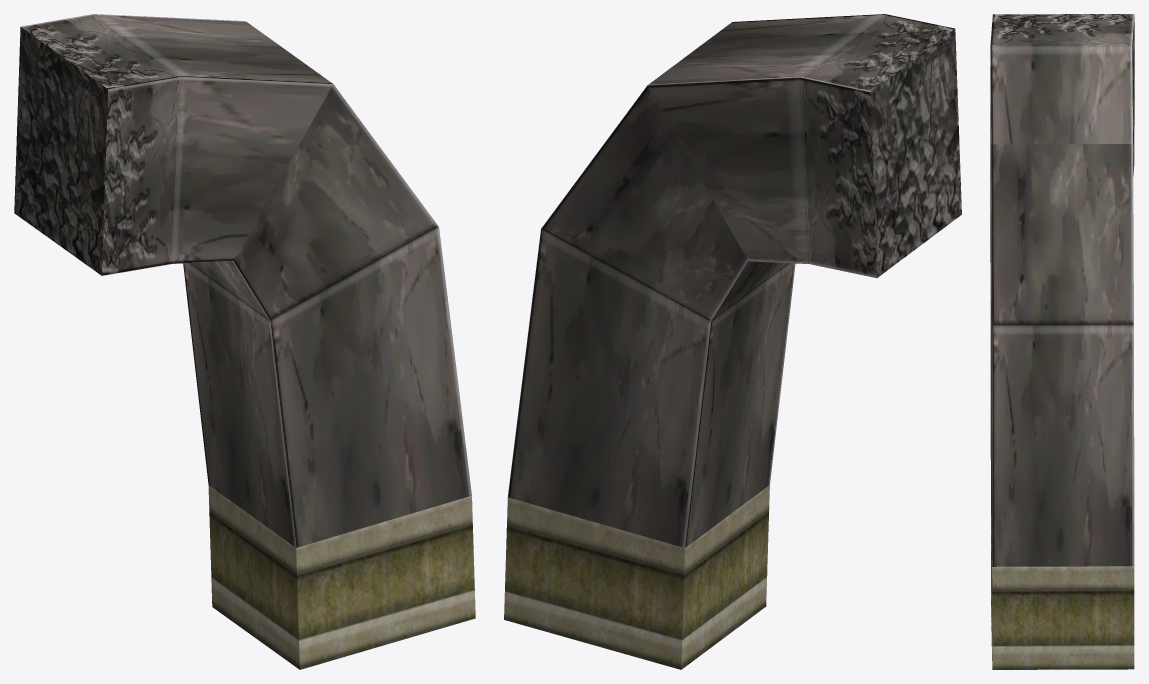
The model's file is INST_SM_BUTTRESSES_BROKEN.fbx.
3 renders of one model, left to right at view 1: azimuth 30°, elevation 25°; view 2: azimuth 150°, elevation 25°; view 3: azimuth 270°, elevation 25°, orthographic. The views are drawn at different scales.
Parts seen in each view (by area): view 1: INST_SM_BUTTRESSES_BROKEN; view 2: INST_SM_BUTTRESSES_BROKEN; view 3: INST_SM_BUTTRESSES_BROKEN.
Boxes of the visible parts, x1,y1,x2,y2 form: INST_SM_BUTTRESSES_BROKEN: [14, 14, 475, 669]; INST_SM_BUTTRESSES_BROKEN: [504, 14, 961, 669]; INST_SM_BUTTRESSES_BROKEN: [990, 14, 1134, 669].
Bounding box in the file's own units: 37216 × 59389 × 15107.
Materials: 4 (4 with a texture image).
